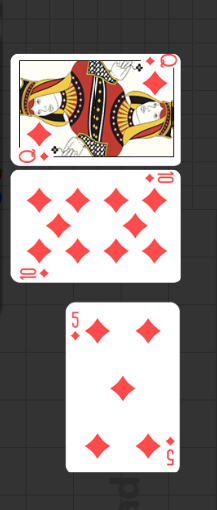10D: (19, 266, 51, 280)
9D: (164, 434, 176, 467)
QD: (134, 66, 181, 110), (14, 133, 60, 177)
